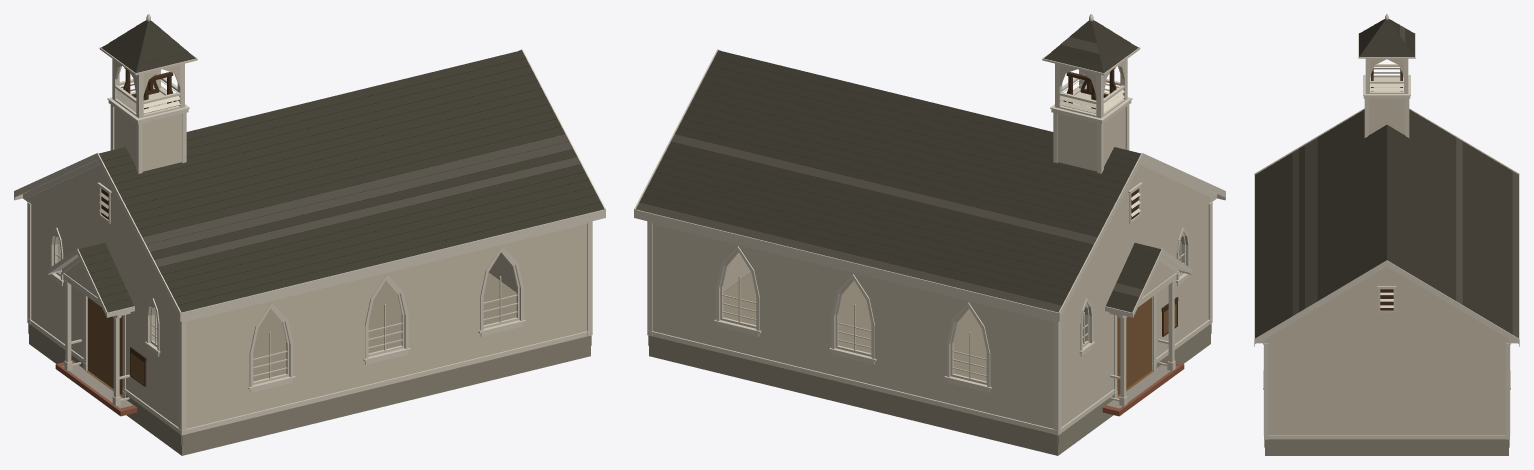
Rendered from SM_Town_Church_Shell_LOD2.fbx.
The picture shows the model from 3 angles, left to right: view 1: azimuth 30°, elevation 25°; view 2: azimuth 150°, elevation 25°; view 3: azimuth 270°, elevation 25°; orthographic projection. The views are drawn at different scales.
Parts seen in each view (by area): view 1: SM_Town_Church_Shell_LOD2; view 2: SM_Town_Church_Shell_LOD2; view 3: SM_Town_Church_Shell_LOD2.
Part boxes in pixels (bbox=[...]): SM_Town_Church_Shell_LOD2: bbox=[14, 14, 605, 455]; SM_Town_Church_Shell_LOD2: bbox=[634, 14, 1225, 455]; SM_Town_Church_Shell_LOD2: bbox=[1254, 14, 1519, 455].
Size of the model in its own units: 15.47 by 10 by 12.44.
